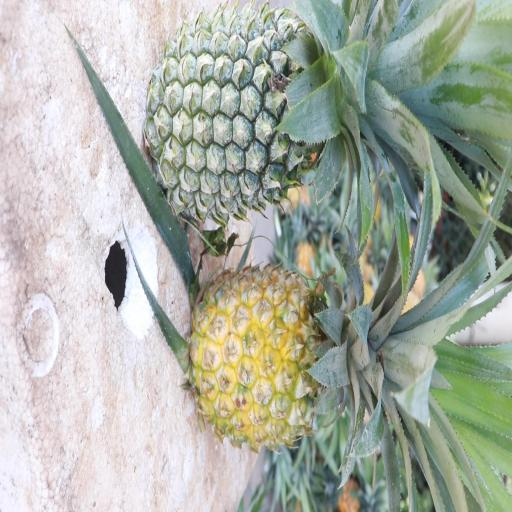Pineapple - v8 v1: (187, 256, 478, 486)
